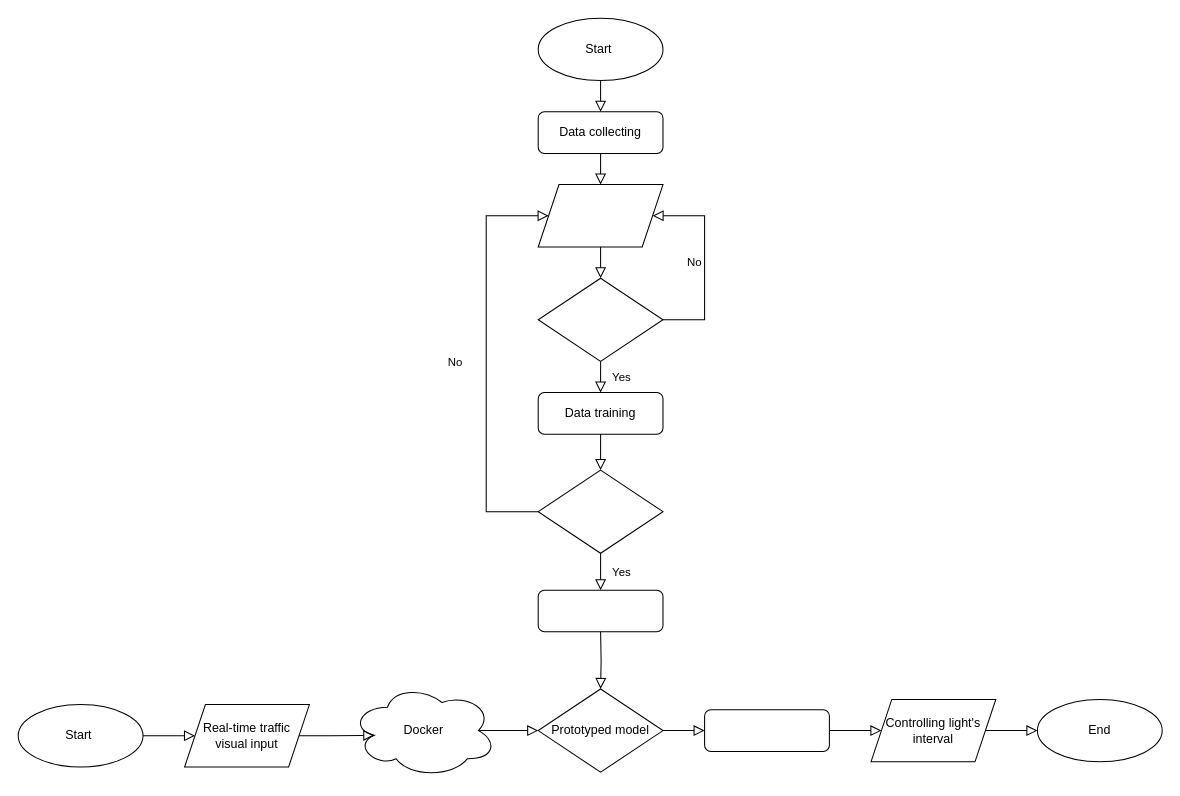
This 1180x796 diagram has some shape labels left out. Each missing label, with the centre of its shape:
"Analyzing data" belongs at (x=600, y=215).
"Deploying Model" belongs at (x=600, y=610).
"Send instructions to traffic light" belongs at (x=766, y=730).
"Split data" belongs at (x=600, y=319).
"Testing & evaluation" belongs at (x=600, y=511).
